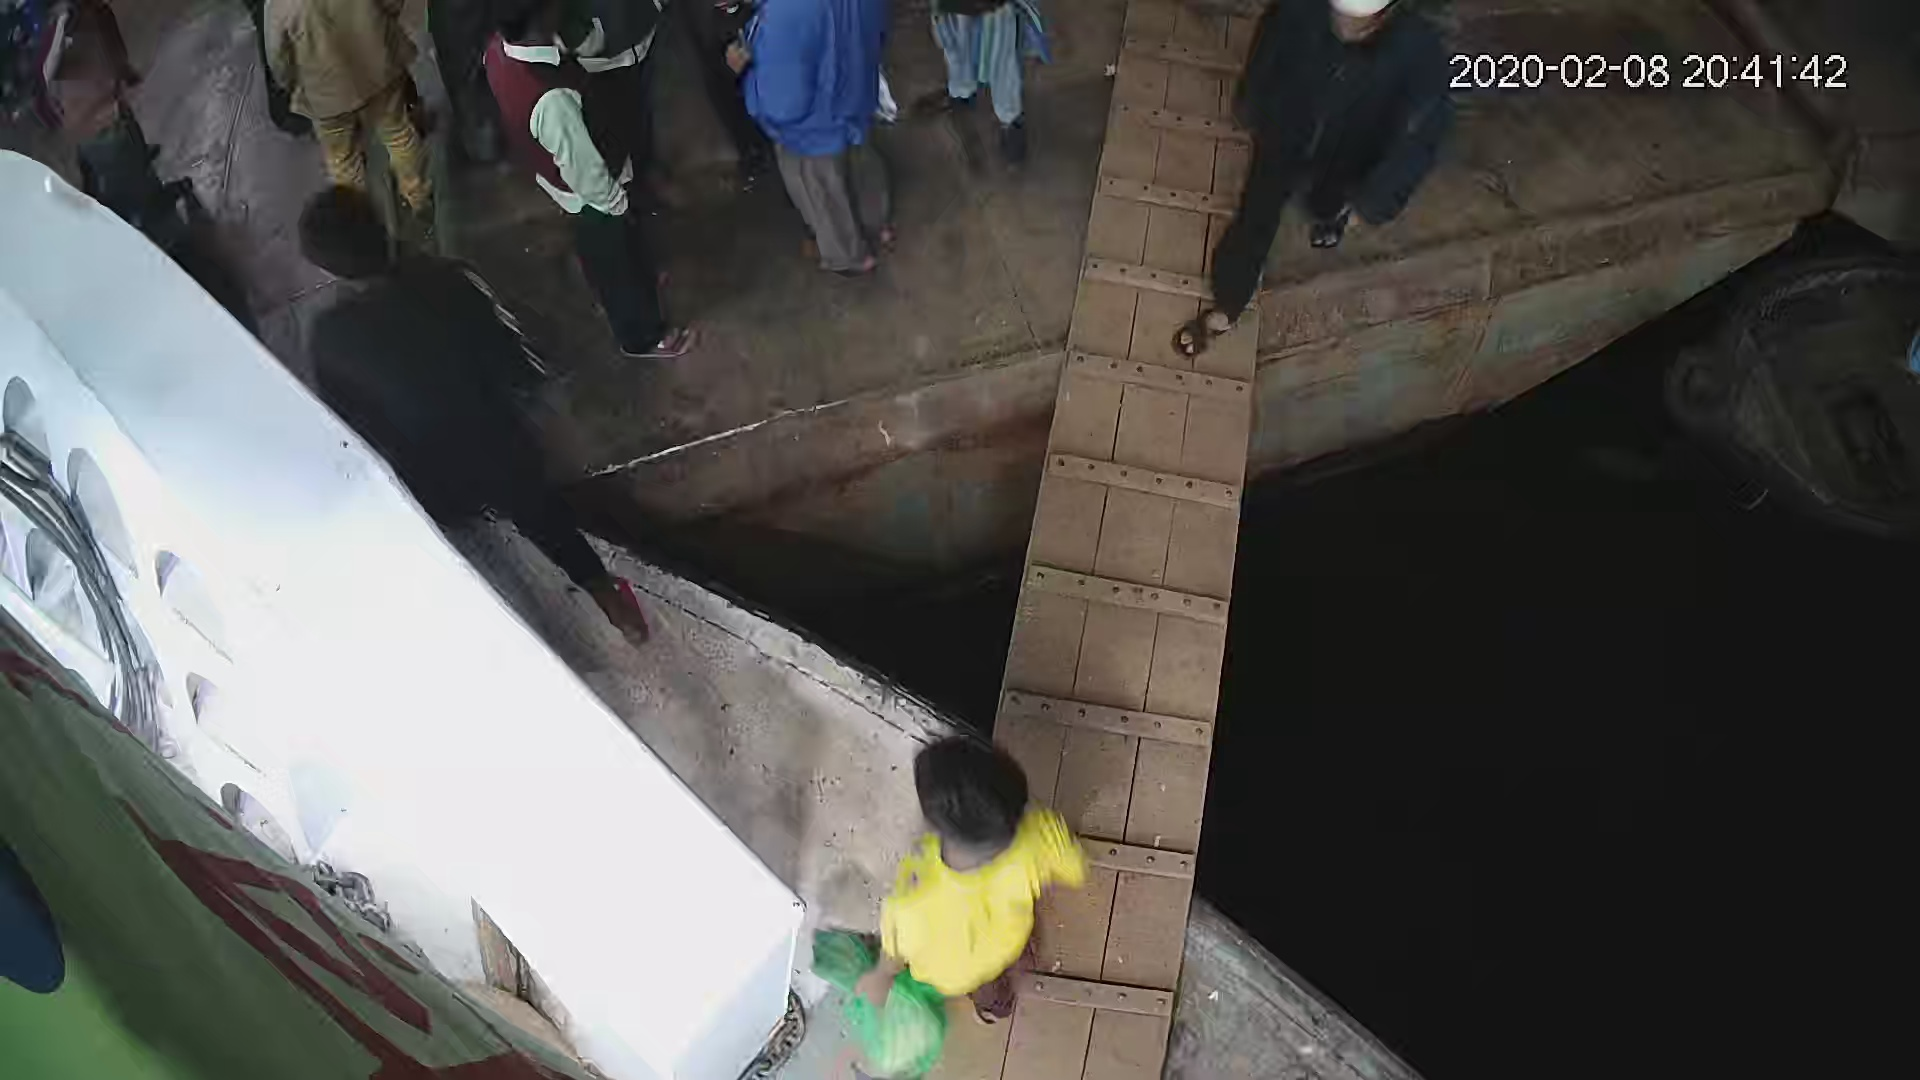person: (290, 174, 648, 647), (1163, 1, 1456, 365), (473, 11, 706, 363), (829, 732, 1086, 1038), (737, 1, 904, 284), (260, 1, 444, 218)
